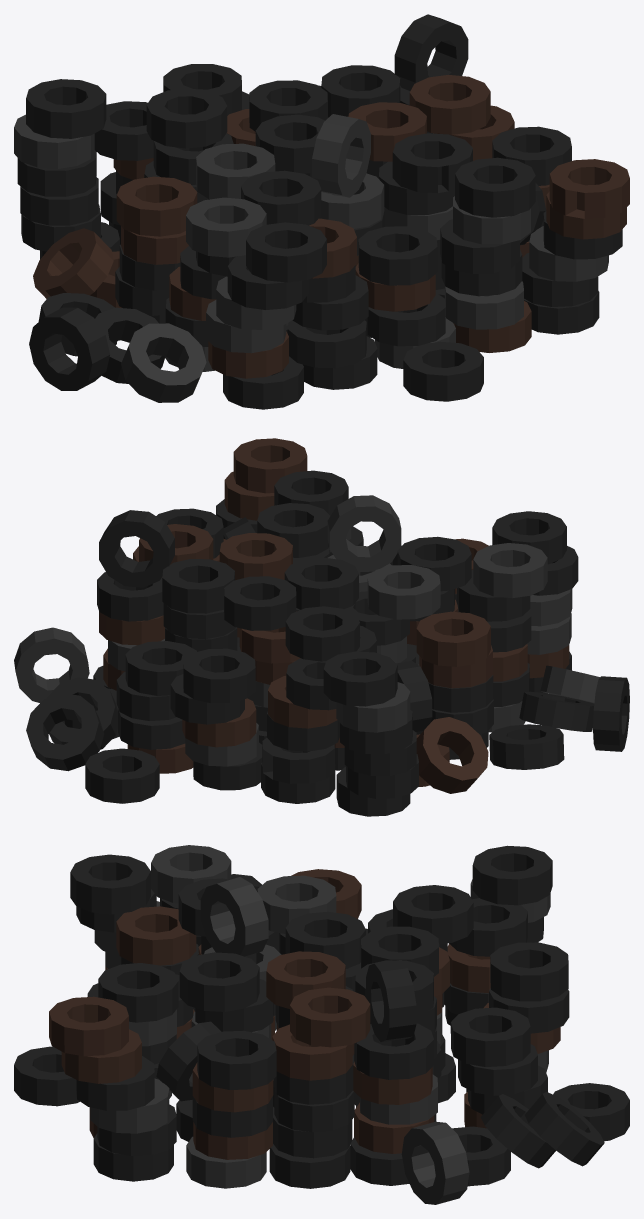
File: Tire3.fbx
3 renders of one model, top to bottom at view 1: azimuth 30°, elevation 25°; view 2: azimuth 150°, elevation 25°; view 3: azimuth 270°, elevation 25°, orthographic. The views are drawn at different scales.
Parts seen in each view (by area): view 1: Circle.744, Circle.791, Circle.771, Circle.265, Circle.745, Circle.747, Circle.266, Circle.773, Circle.790, Circle.245, Circle.772, Circle.751 (+79 smaller); view 2: Circle.267, Circle.256, Circle.250, Circle.153, Circle.259, Circle.242, Circle.195, Circle.743, Circle.738, Circle.262, Circle.736, Circle.255 (+92 smaller); view 3: Circle.782, Circle.270, Circle.790, Circle.789, Circle.274, Circle.179, Circle.781, Circle.175, Circle.251, Circle.258, Circle.163, Circle.775 (+82 smaller).
Part boxes in pixels (x1=…): Circle.744: x1=214, y1=231, x2=286, y2=409; Circle.791: x1=550, y1=166, x2=605, y2=334; Circle.771: x1=465, y1=183, x2=524, y2=352; Circle.265: x1=45, y1=103, x2=119, y2=251; Circle.745: x1=263, y1=232, x2=326, y2=407; Circle.747: x1=302, y1=245, x2=369, y2=389; Circle.266: x1=18, y1=101, x2=77, y2=259; Circle.773: x1=440, y1=174, x2=489, y2=345; Circle.790: x1=558, y1=159, x2=629, y2=332; Circle.245: x1=117, y1=194, x2=160, y2=323; Circle.772: x1=499, y1=175, x2=537, y2=351; Circle.751: x1=315, y1=236, x2=377, y2=388; Circle.267: x1=346, y1=670, x2=410, y2=816; Circle.256: x1=263, y1=662, x2=315, y2=803; Circle.250: x1=183, y1=661, x2=229, y2=789; Circle.153: x1=121, y1=659, x2=176, y2=757; Circle.259: x1=297, y1=679, x2=337, y2=803; Circle.242: x1=421, y1=632, x2=472, y2=759; Circle.195: x1=234, y1=599, x2=279, y2=735; Circle.743: x1=531, y1=540, x2=571, y2=693; Circle.738: x1=499, y1=572, x2=531, y2=725; Circle.262: x1=323, y1=660, x2=367, y2=816; Circle.736: x1=470, y1=565, x2=511, y2=732; Circle.255: x1=215, y1=668, x2=251, y2=790; Circle.782: x1=186, y1=1036, x2=251, y2=1188; Circle.270: x1=290, y1=1010, x2=351, y2=1188; Circle.790: x1=49, y1=1007, x2=128, y2=1178; Circle.789: x1=108, y1=1016, x2=168, y2=1181; Circle.274: x1=271, y1=1037, x2=313, y2=1188; Circle.179: x1=356, y1=1006, x2=402, y2=1185; Circle.781: x1=236, y1=1034, x2=290, y2=1186; Circle.175: x1=374, y1=976, x2=425, y2=1184; Circle.251: x1=502, y1=965, x2=568, y2=1072; Circle.258: x1=440, y1=894, x2=486, y2=1014; Circle.163: x1=454, y1=1028, x2=504, y2=1128; Circle.775: x1=117, y1=980, x2=180, y2=1137.
Size of the model in its own units: 3252 by 1101 by 3061.
